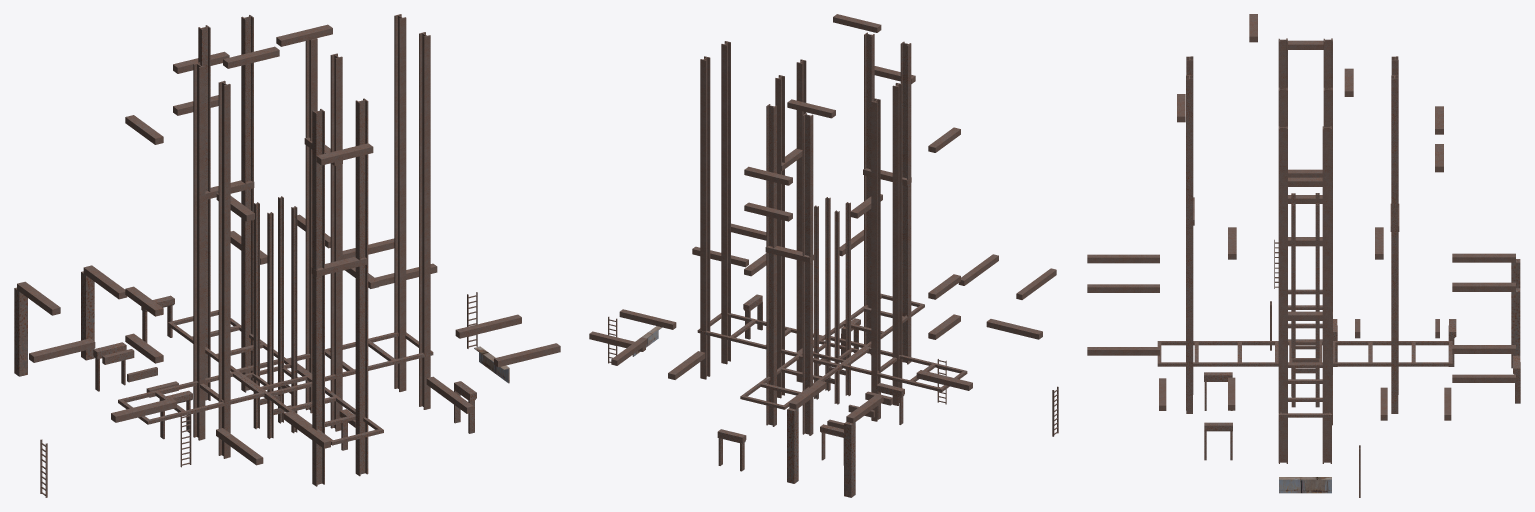
File: SM_LDFest_15_Metal_01.fbx
The picture shows the model from 3 angles, left to right: view 1: azimuth 30°, elevation 25°; view 2: azimuth 150°, elevation 25°; view 3: azimuth 270°, elevation 25°; orthographic projection. The views are drawn at different scales.
Parts seen in each view (by area): view 1: SM_LDFest_15_Metal_01; view 2: SM_LDFest_15_Metal_01; view 3: SM_LDFest_15_Metal_01.
Boxes of the visible parts, x1,y1,x2,y2 form: SM_LDFest_15_Metal_01: (14,14,560,497); SM_LDFest_15_Metal_01: (589,14,1058,497); SM_LDFest_15_Metal_01: (1087,14,1520,497).
Bounding box in the file's own units: 6021 × 5050 × 5254.
